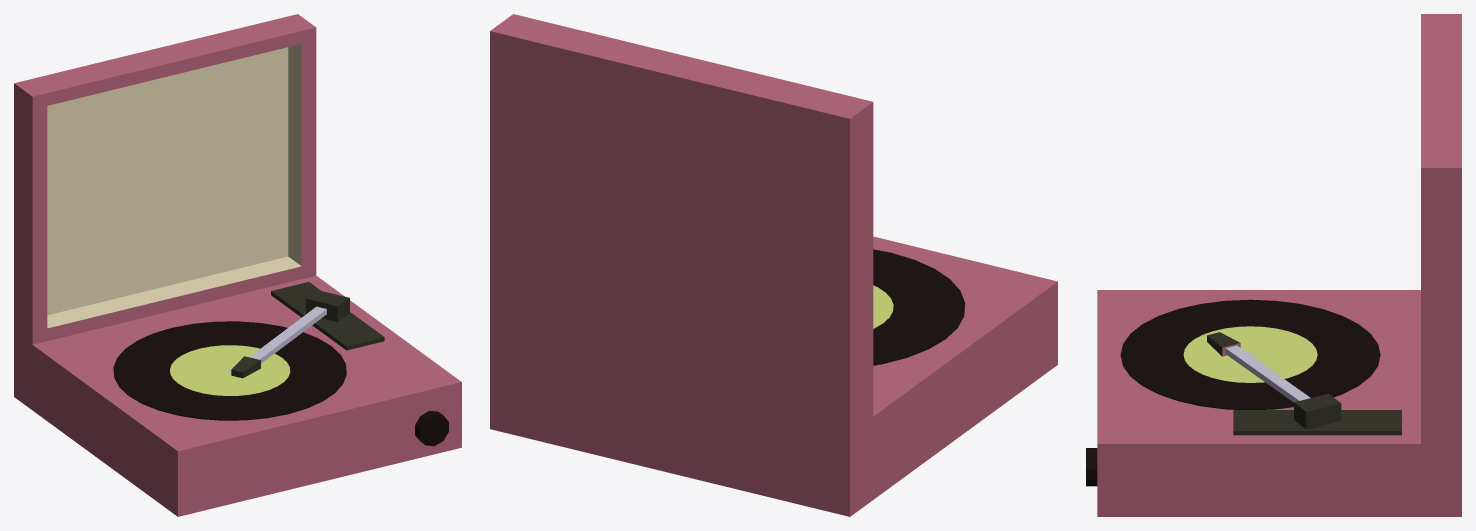
Rendered from recordplayer 1.fbx.
3 renders of one model, left to right at view 1: azimuth 30°, elevation 25°; view 2: azimuth 150°, elevation 25°; view 3: azimuth 270°, elevation 25°, orthographic. The views are drawn at different scales.
Parts seen in each view (by area): view 1: Cylinder; view 2: Cylinder; view 3: Cylinder.
Boxes of the visible parts, box(x1,y1,x2,y2) form: Cylinder: box(14, 14, 461, 516); Cylinder: box(490, 14, 1057, 516); Cylinder: box(1086, 14, 1461, 516).
Bounding box in the file's own units: 200 × 211 × 206.
